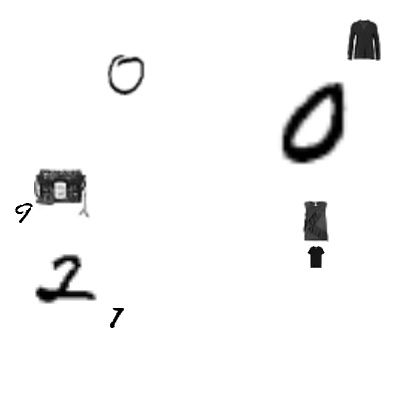0: (259, 67, 371, 179), (96, 45, 152, 101)
2: (21, 240, 105, 324)
7: (102, 302, 130, 330)
9: (9, 197, 37, 225)
Bag: (34, 165, 90, 221)
Shirt: (343, 19, 385, 61), (294, 200, 336, 242)
T-shirt/top: (305, 246, 327, 268)
